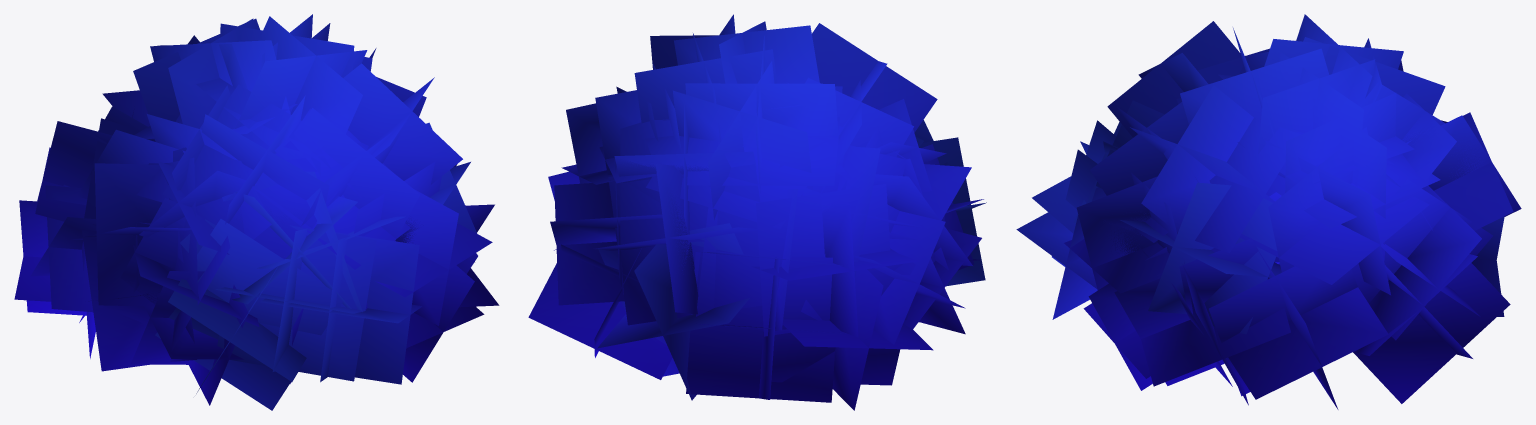
File: TSI_Bush_02B.fbx
The picture shows the model from 3 angles, left to right: view 1: azimuth 30°, elevation 25°; view 2: azimuth 150°, elevation 25°; view 3: azimuth 270°, elevation 25°; orthographic projection. The views are drawn at different scales.
Visible parts, largest first — view 1: TSI_Bush_02B_LOD0; view 2: TSI_Bush_02B_LOD0; view 3: TSI_Bush_02B_LOD0.
Part boxes in pixels (x1,y1,x2,y2): TSI_Bush_02B_LOD0: (14,14,499,410); TSI_Bush_02B_LOD0: (528,14,986,410); TSI_Bush_02B_LOD0: (1016,14,1521,409).
Size of the model in its own units: 222 by 161 by 230.
